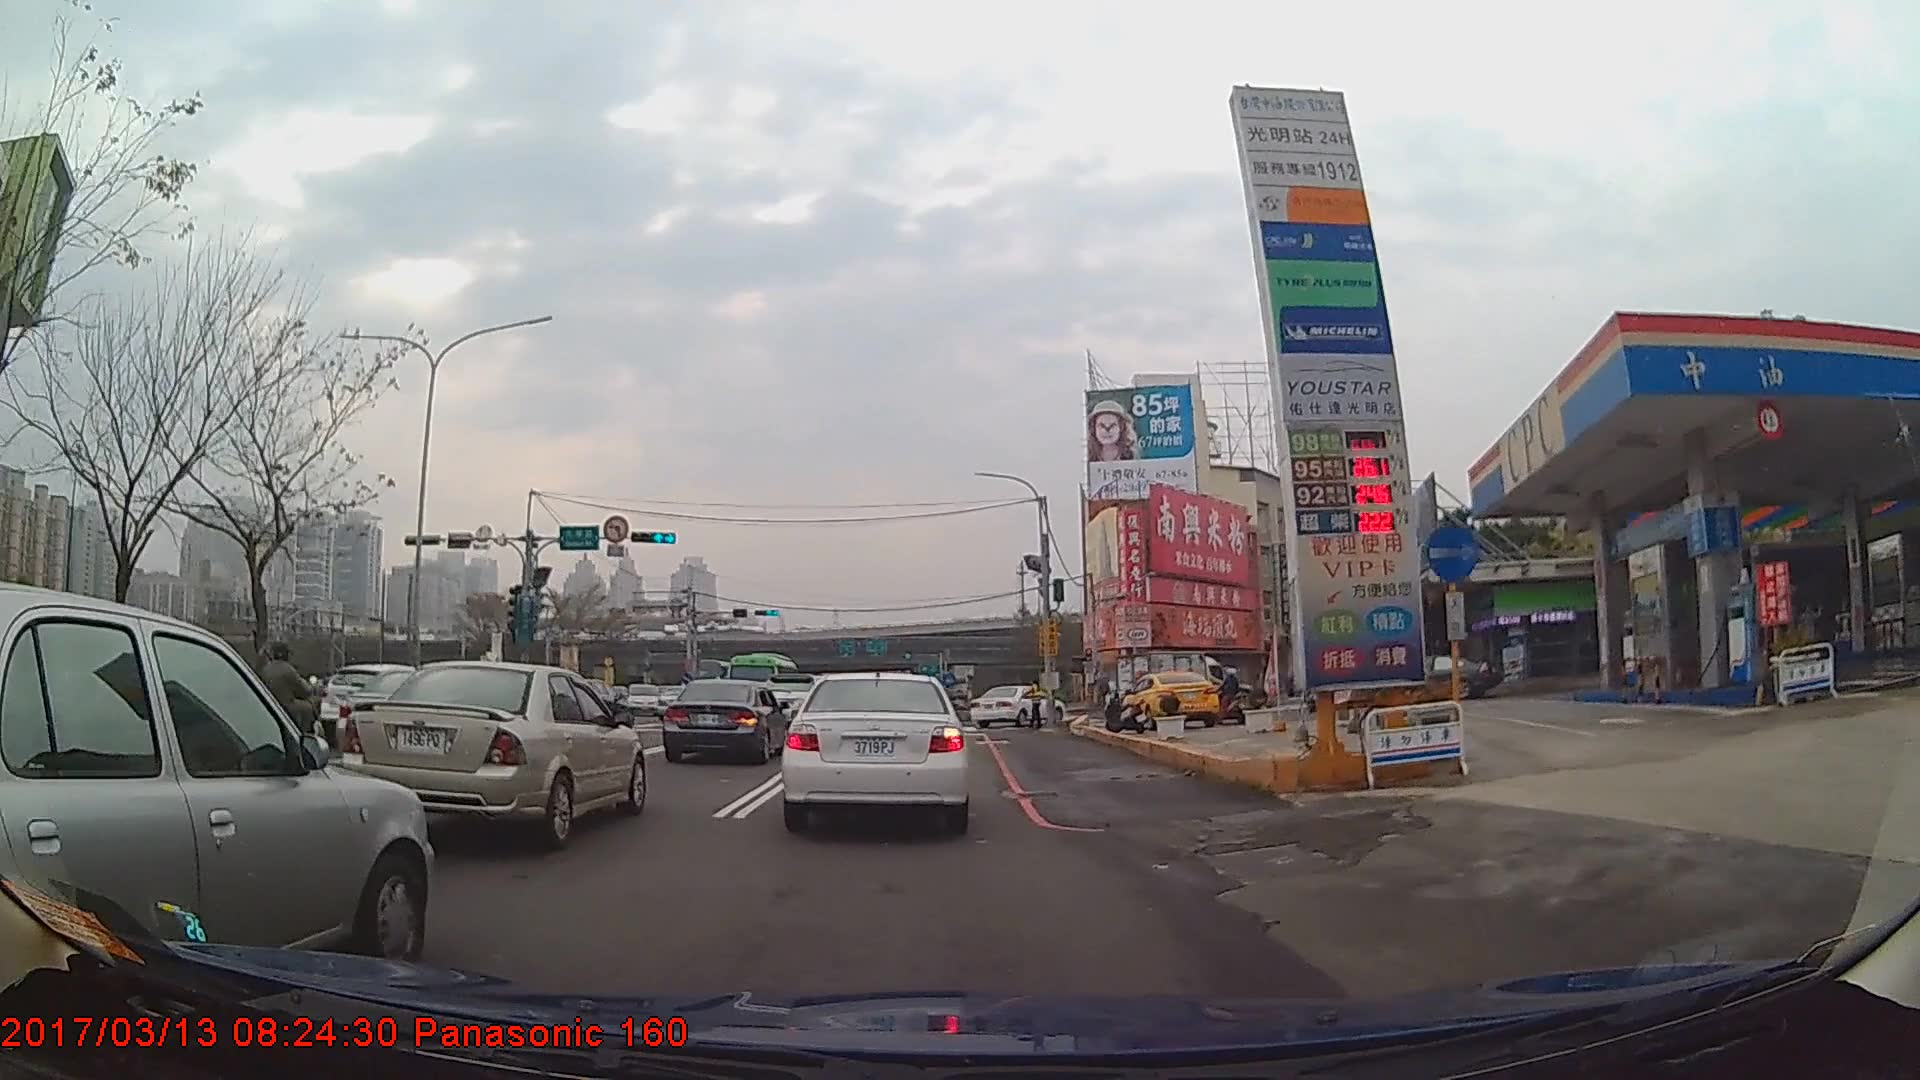pedestrian: (1022, 681, 1044, 732)
rider: (248, 641, 326, 766), (1321, 658, 1362, 719), (1212, 668, 1248, 727)
vehicle: (0, 580, 435, 1001), (343, 660, 648, 849), (785, 668, 970, 833), (662, 677, 790, 765), (1112, 648, 1226, 713), (1124, 669, 1224, 728), (1400, 652, 1500, 697), (723, 650, 800, 709), (969, 683, 1064, 729)
